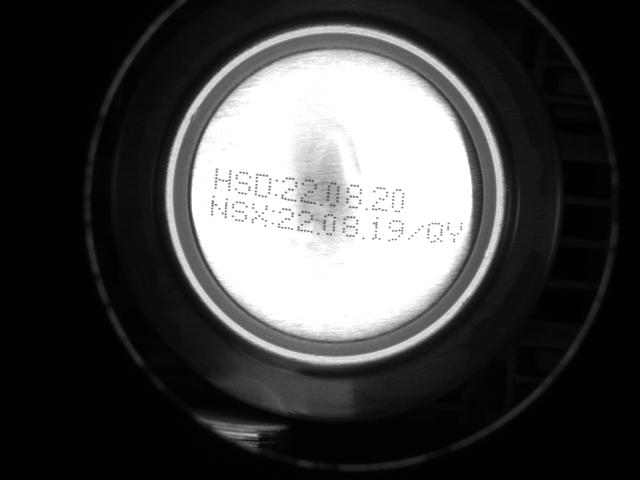.: (319, 193, 325, 207), (314, 223, 320, 237), (359, 226, 365, 240), (362, 196, 368, 210)
/: (406, 222, 424, 243)
0: (326, 180, 340, 209), (390, 184, 404, 213), (322, 210, 336, 239)
1: (371, 215, 383, 241)
2: (279, 174, 298, 204), (298, 175, 317, 205), (275, 202, 294, 232), (295, 207, 314, 237), (370, 183, 389, 213)
8: (344, 182, 362, 209), (341, 213, 359, 240)
9: (386, 217, 405, 245)
:: (273, 177, 280, 199), (269, 204, 276, 226)
D: (253, 171, 273, 200)
H: (212, 165, 233, 193)
N: (209, 193, 229, 219)
Q: (425, 220, 444, 246)
S: (233, 169, 252, 197), (230, 196, 249, 224)
X: (249, 200, 269, 227)
Y: (445, 219, 464, 248)
